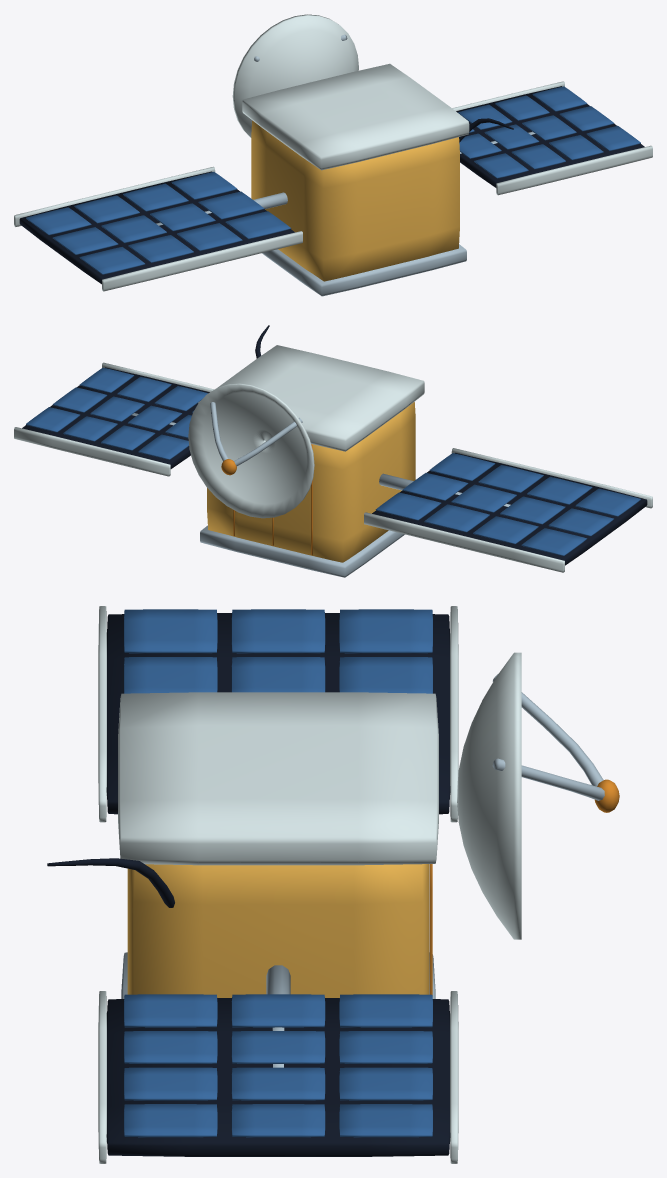
Rendered from SatelliteDebris.glb.
3 views of the same model, one above another, from view 1: azimuth 30°, elevation 25°; view 2: azimuth 150°, elevation 25°; view 3: azimuth 270°, elevation 25° (orthographic). The views are drawn at different scales.
Visible parts, largest first — view 1: SatelliteDebris__Body, SatelliteDebris__Panels, SatelliteDebris__Dish; view 2: SatelliteDebris__Panels, SatelliteDebris__Body, SatelliteDebris__Dish; view 3: SatelliteDebris__Body, SatelliteDebris__Panels, SatelliteDebris__Dish.
Boxes of the visible parts, x1,y1,x2,y2 form: SatelliteDebris__Body: (156,63,535,296); SatelliteDebris__Panels: (14,81,652,291); SatelliteDebris__Dish: (232,14,358,137); SatelliteDebris__Panels: (14,362,652,572); SatelliteDebris__Body: (132,325,510,577); SatelliteDebris__Dish: (188,383,314,518); SatelliteDebris__Body: (47,692,438,1067); SatelliteDebris__Panels: (98,606,458,1163); SatelliteDebris__Dish: (457,652,619,939).
Size of the model in its own units: 2.77 by 0.9226 by 1.25.
1 material, 1 textured.
